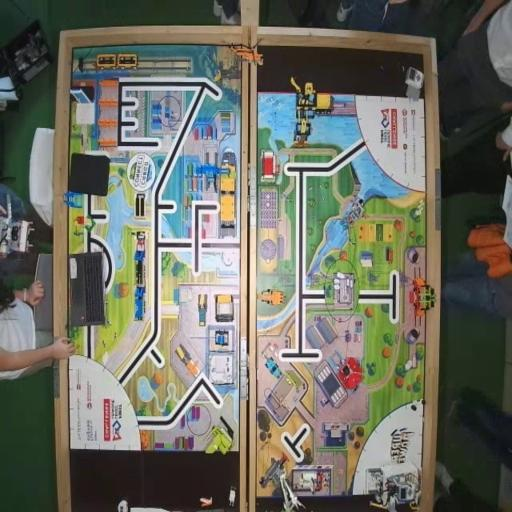lego_robot: (364, 466, 421, 512)
